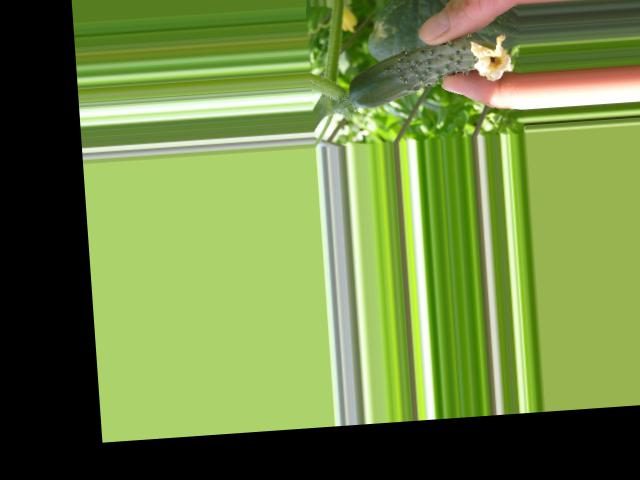cucumber: (344, 34, 513, 108)
